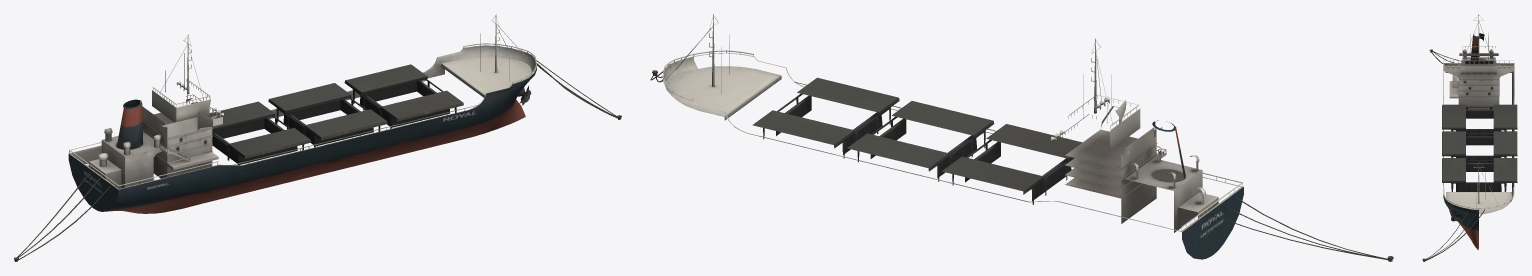
The picture shows the model from 3 angles, left to right: view 1: azimuth 30°, elevation 25°; view 2: azimuth 150°, elevation 25°; view 3: azimuth 270°, elevation 25°; orthographic projection. The views are drawn at different scales.
Parts seen in each view (by area): view 1: body0_model0_lod0_mesh0; view 2: body0_model0_lod0_mesh0; view 3: body0_model0_lod0_mesh0.
Boxes of the visible parts, <box> form: body0_model0_lod0_mesh0: <box>14,14,621,261</box>; body0_model0_lod0_mesh0: <box>650,14,1393,261</box>; body0_model0_lod0_mesh0: <box>1422,14,1517,261</box>.
Bounding box in the file's own units: 802 × 210 × 153.
1 material, 1 textured.
